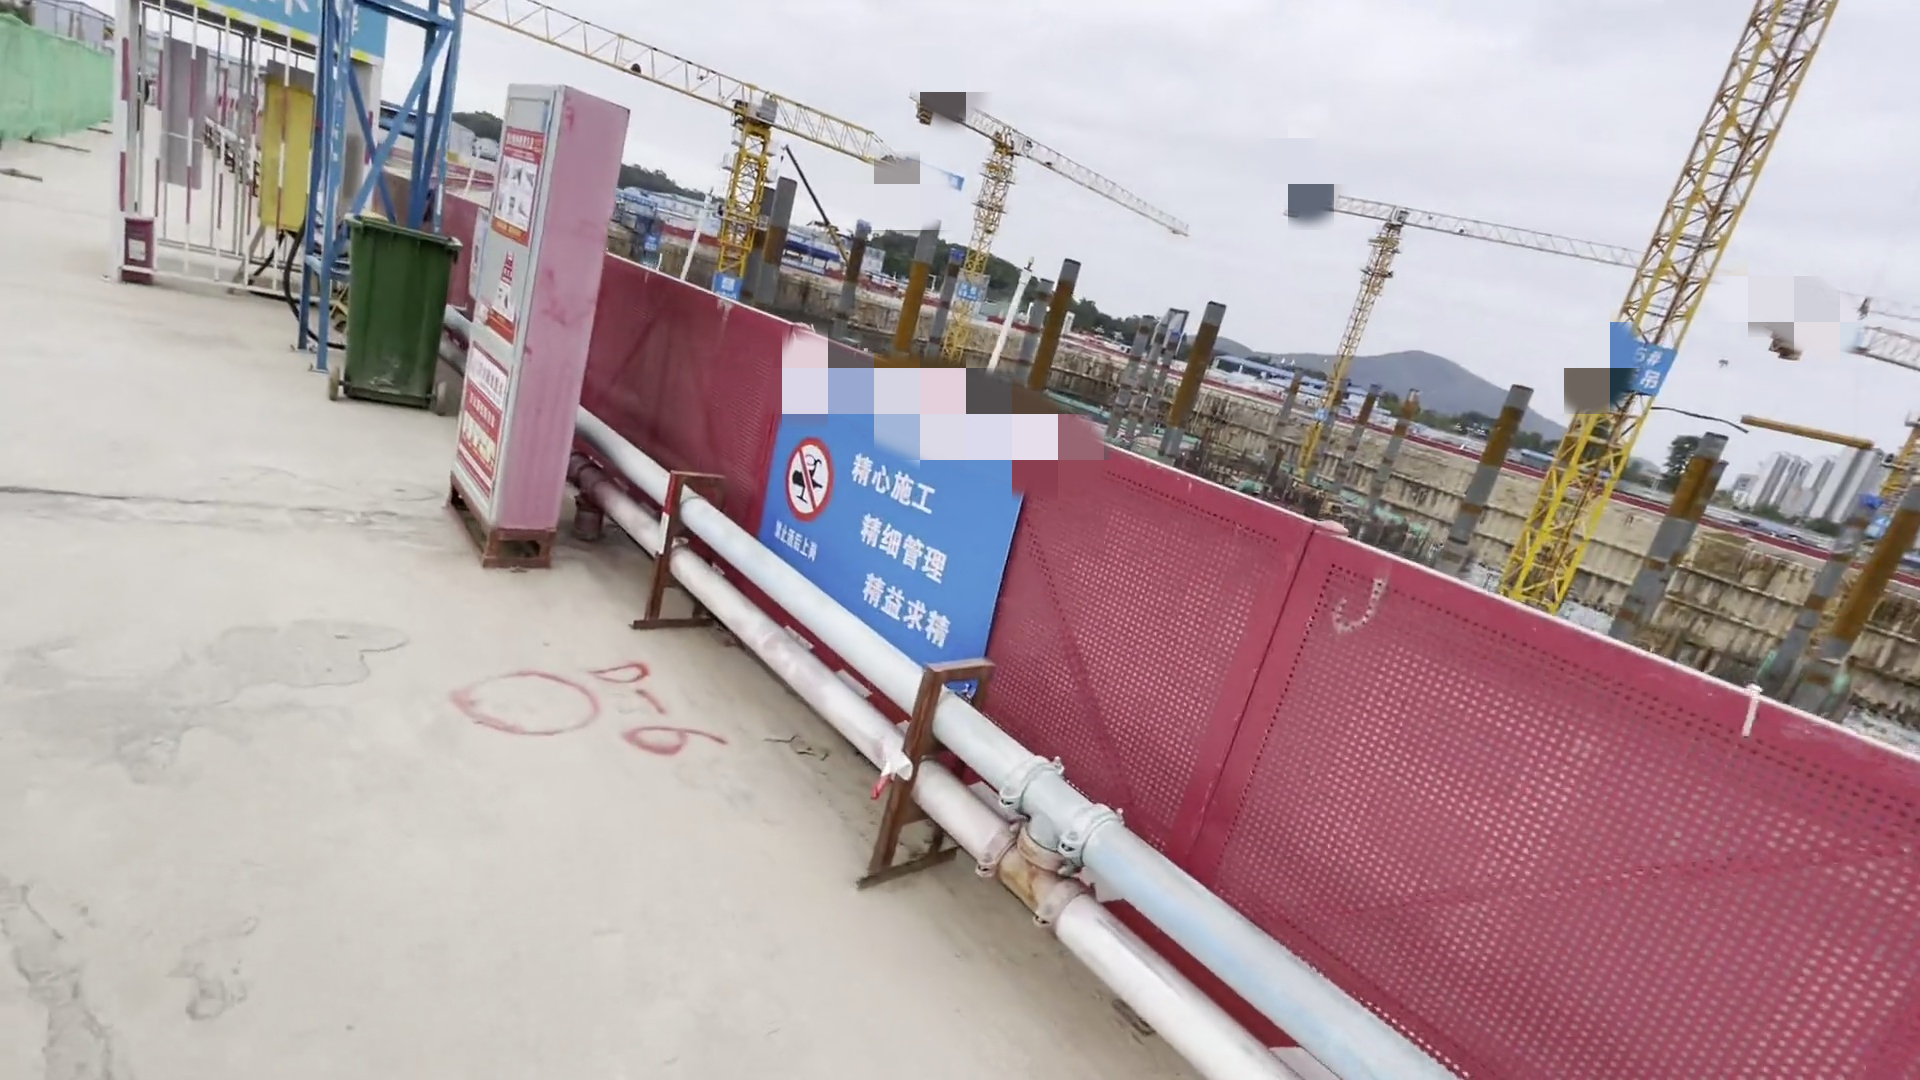ebox: (244, 82, 318, 232)
fence: (440, 182, 1880, 1048)
slogan: (767, 377, 1004, 644)
